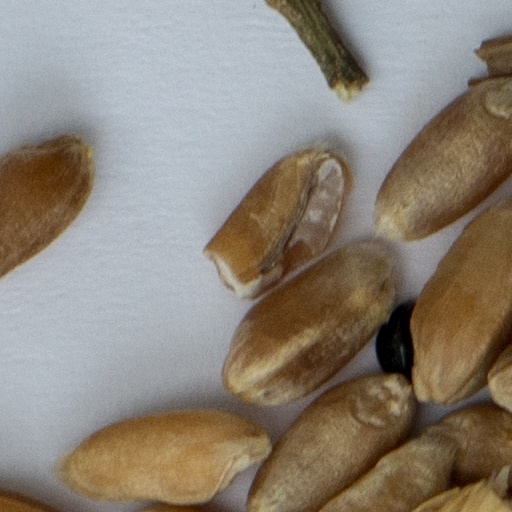Wheat-grain-damaged-poly: (203, 139, 357, 299)
